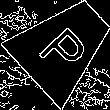P_NE: (33, 15, 95, 76)
